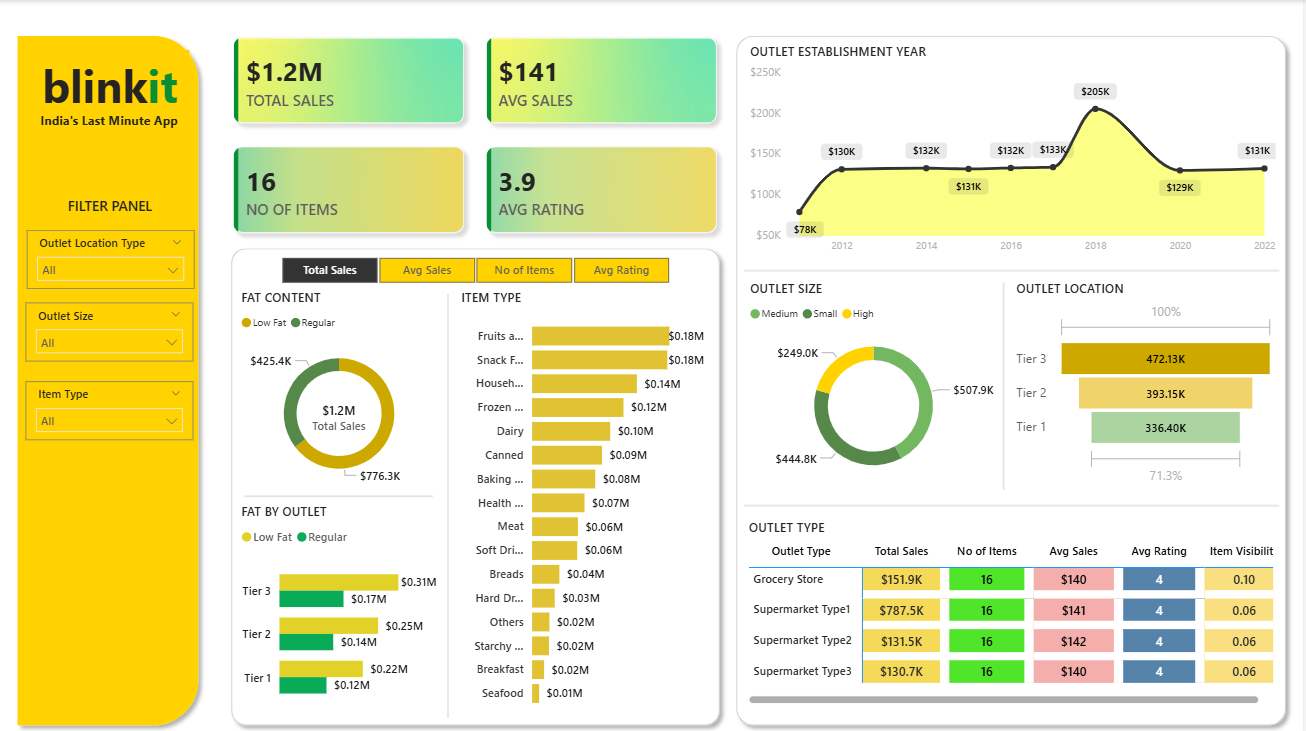

This screenshot's page, from the dashboard's own definition file:
{"tool":"powerbi","page":{"name":"DASHBOARD 1","canvas":[1400,800],"ordinal":0},"visuals":[{"type":"shape","box":[12.1,29.5,211.8,757.4],"z":0},{"type":"textbox","box":[34.9,53.6,170.2,73.7],"z":1000},{"type":"textbox","box":[37.5,115.3,163.5,42.9],"z":2000},{"type":"cardVisual","fields":{"Data":["Sheet1.Total Sales","Sheet1.Avg Sales","Sheet1.No of Items","Sheet1.Avg Rating"]},"box":[223.9,10.7,577.8,269.4],"z":3000},{"type":"shape","box":[241.3,257.4,541.6,529.5],"z":4000},{"type":"donutChart","title":"FAT CONTENT","fields":{"Y":["Sheet1.Total Sales"],"Category":["Sheet1.Item Fat Content"]},"box":[256,309.7,219.8,222.5],"z":5000},{"type":"slicer","fields":{"Values":["Metrics.Metrics"]},"box":[278.8,269.4,465.1,40.2],"z":6000},{"type":"cardVisual","fields":{"Data":["Sheet1.Total Sales"]},"box":[284.2,408.8,163.5,77.7],"z":7000},{"type":"clusteredBarChart","title":"FAT BY OUTLET","fields":{"Y":["Sheet1.Total Sales"],"Category":["Sheet1.Outlet Location Type"],"Series":["Sheet1.Item Fat Content"]},"box":[256,538.9,219.8,230.6],"z":8000},{"type":"shape","box":[264.1,505.4,202.4,53.6],"z":9000},{"type":"shape","box":[447.7,315,69.7,454.4],"z":10000},{"type":"barChart","title":"ITEM TYPE","fields":{"Y":["Sheet1.Total Sales"],"Category":["Sheet1.Item Type"]},"box":[492,309.7,270.8,459.8],"z":11000},{"type":"shape","box":[782.8,29.5,607.2,757.4],"z":12000},{"type":"lineChart","title":"OUTLET ESTABLISHMENT YEAR","fields":{"Y":["Sheet1.Total Sales"],"Category":["Sheet1.Outlet Establishment Year"]},"box":[801.6,45.6,573.7,234.6],"z":13000},{"type":"shape","box":[800.3,280.2,573.7,20.1],"z":14000},{"type":"donutChart","title":"OUTLET SIZE","fields":{"Y":["Sheet1.Total Sales"],"Category":["Sheet1.Outlet Size"]},"box":[801.6,300.3,275,225],"z":15000},{"type":"shape","box":[1068.4,303,20.1,222.5],"z":16000},{"type":"funnel","title":"OUTLET LOCATION","fields":{"Y":["Sum(Sheet1.Sales)"],"Category":["Sheet1.Outlet Location Type"]},"box":[1087.1,300.3,286.9,225.2],"z":17000},{"type":"shape","box":[800.3,532.2,573.7,20.1],"z":18000},{"type":"pivotTable","title":"OUTLET TYPE","fields":{"Rows":["Sheet1.Outlet Type"],"Values":["Sheet1.Total Sales","Sheet1.No of Items","Sheet1.Avg Sales","Sheet1.Avg Rating","Avg(Sheet1.Item Visibility)"]},"box":[800.3,556.3,572.4,203.8],"z":19000},{"type":"slicer","fields":{"Values":["Sheet1.Outlet Location Type"]},"box":[30.8,246.7,179.6,63],"z":20000},{"type":"slicer","fields":{"Values":["Sheet1.Outlet Size"]},"box":[29.5,324.4,179.6,63],"z":21000},{"type":"slicer","fields":{"Values":["Sheet1.Item Type"]},"box":[29.5,408.8,179.6,63],"z":22000},{"type":"textbox","title":"FILTER PANEL","box":[61.7,210.5,116.6,22.8],"z":23000}]}

Visuals, with their boxes in screenshot pixels (x1, y1, x2, y2), scaled from the page's 1400x800 canvas onto the 1306x731 screenshot:
shape: [x1=11, y1=27, x2=209, y2=719]
textbox: [x1=33, y1=49, x2=191, y2=116]
textbox: [x1=35, y1=105, x2=188, y2=145]
cardVisual - Sheet1.Total Sales x Sheet1.Avg Sales: [x1=209, y1=10, x2=748, y2=256]
shape: [x1=225, y1=235, x2=730, y2=719]
"FAT CONTENT" donutChart: [x1=239, y1=283, x2=444, y2=486]
slicer - Metrics.Metrics: [x1=260, y1=246, x2=694, y2=283]
cardVisual - Sheet1.Total Sales: [x1=265, y1=374, x2=418, y2=445]
"FAT BY OUTLET" clusteredBarChart: [x1=239, y1=492, x2=444, y2=703]
shape: [x1=246, y1=462, x2=435, y2=511]
shape: [x1=418, y1=288, x2=483, y2=703]
"ITEM TYPE" barChart: [x1=459, y1=283, x2=712, y2=703]
shape: [x1=730, y1=27, x2=1297, y2=719]
"OUTLET ESTABLISHMENT YEAR" lineChart: [x1=748, y1=42, x2=1283, y2=256]
shape: [x1=747, y1=256, x2=1282, y2=274]
"OUTLET SIZE" donutChart: [x1=748, y1=274, x2=1004, y2=480]
shape: [x1=997, y1=277, x2=1015, y2=480]
"OUTLET LOCATION" funnel: [x1=1014, y1=274, x2=1282, y2=480]
shape: [x1=747, y1=486, x2=1282, y2=505]
"OUTLET TYPE" pivotTable: [x1=747, y1=508, x2=1281, y2=695]
slicer - Sheet1.Outlet Location Type: [x1=29, y1=225, x2=196, y2=283]
slicer - Sheet1.Outlet Size: [x1=28, y1=296, x2=195, y2=354]
slicer - Sheet1.Item Type: [x1=28, y1=374, x2=195, y2=431]
"FILTER PANEL" textbox: [x1=58, y1=192, x2=166, y2=213]
